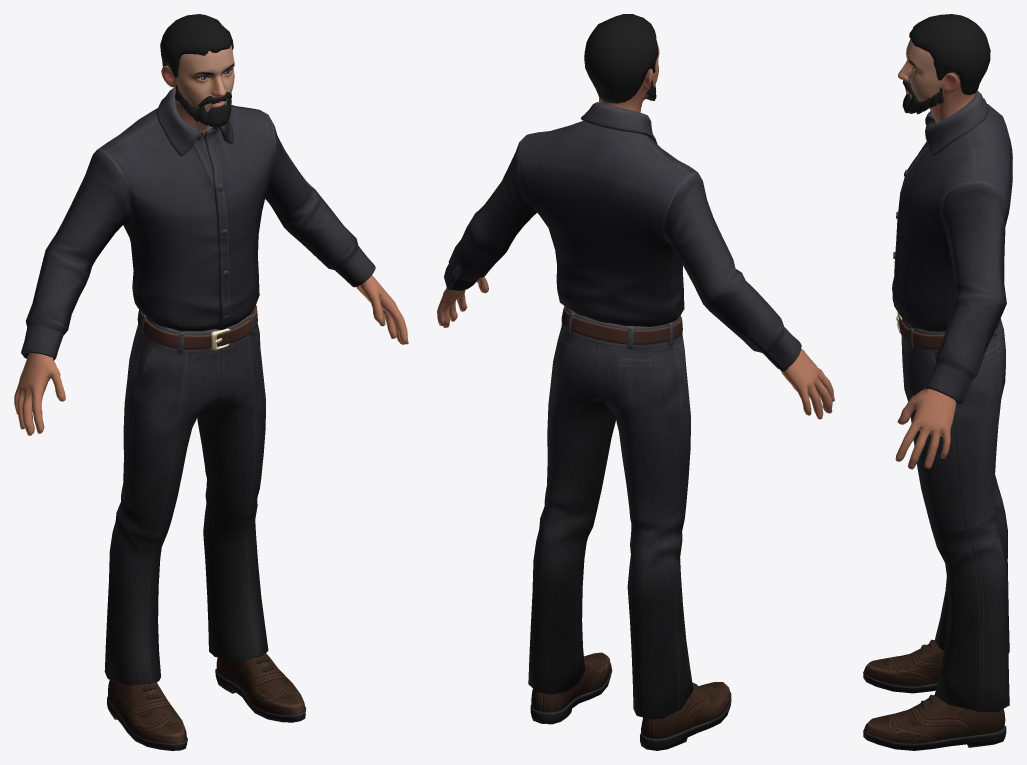
3 views of the same model, side by side, from view 1: azimuth 30°, elevation 25°; view 2: azimuth 150°, elevation 25°; view 3: azimuth 270°, elevation 25° (orthographic).
Visible parts, largest first — view 1: Wolf3D_Outfit_Top, Wolf3D_Outfit_Bottom, Wolf3D_Outfit_Footwear, Wolf3D_Body, Wolf3D_Head, Wolf3D_Hair, Wolf3D_Beard; view 2: Wolf3D_Outfit_Bottom, Wolf3D_Outfit_Top, Wolf3D_Outfit_Footwear, Wolf3D_Hair, Wolf3D_Body, Wolf3D_Head; view 3: Wolf3D_Outfit_Top, Wolf3D_Outfit_Bottom, Wolf3D_Outfit_Footwear, Wolf3D_Hair, Wolf3D_Body, Wolf3D_Head, Wolf3D_Beard.
Part boxes in pixels (x1,y1,x2,y2): Wolf3D_Outfit_Top: [21, 88, 375, 360]; Wolf3D_Outfit_Bottom: [104, 305, 268, 685]; Wolf3D_Outfit_Footwear: [107, 652, 306, 750]; Wolf3D_Body: [14, 275, 408, 435]; Wolf3D_Head: [161, 45, 234, 135]; Wolf3D_Hair: [160, 14, 233, 77]; Wolf3D_Beard: [175, 85, 231, 127]; Wolf3D_Outfit_Bottom: [528, 306, 693, 719]; Wolf3D_Outfit_Top: [444, 102, 801, 371]; Wolf3D_Outfit_Footwear: [530, 652, 731, 750]; Wolf3D_Hair: [584, 14, 658, 103]; Wolf3D_Body: [437, 276, 834, 419]; Wolf3D_Head: [598, 40, 659, 112]; Wolf3D_Outfit_Top: [892, 91, 1012, 404]; Wolf3D_Outfit_Bottom: [896, 312, 1009, 712]; Wolf3D_Outfit_Footwear: [863, 639, 1006, 750]; Wolf3D_Hair: [909, 14, 990, 95]; Wolf3D_Body: [895, 388, 956, 469]; Wolf3D_Head: [898, 39, 976, 122]; Wolf3D_Beard: [902, 80, 943, 114].
Size of the model in its own units: 1.06 by 1.84 by 0.3595.
9 materials, 9 textured.
